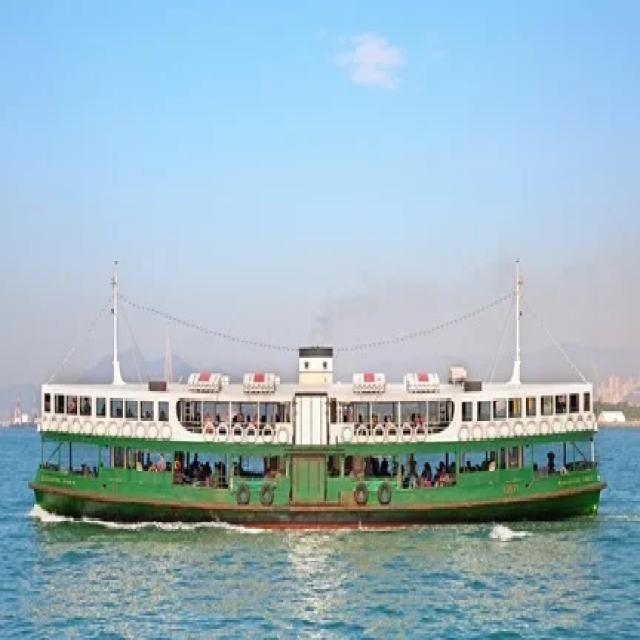passenger ship: (31, 296, 592, 522)
